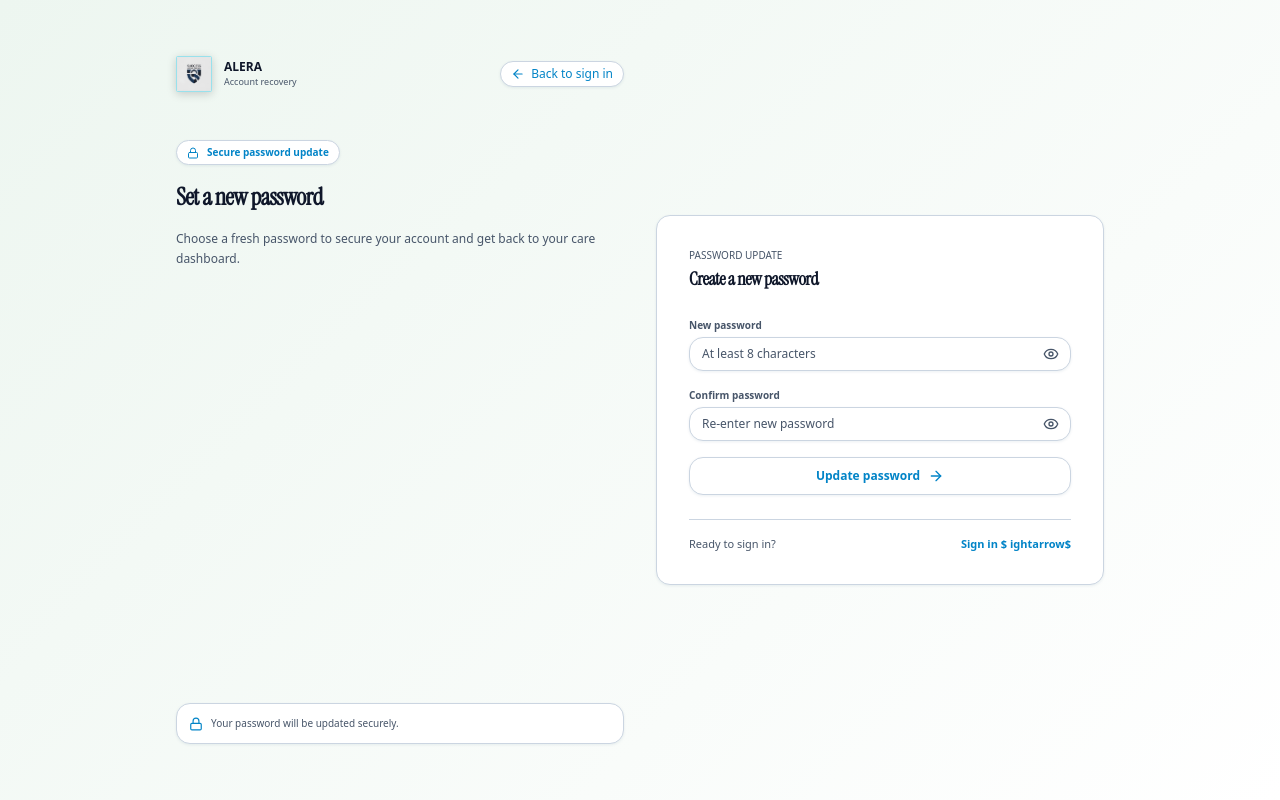
Test: Recovery flows › submits a reset-password token exchange
The width and height of the screenshot is (1280, 800).
Type "newpassword123" into the password field with placeholder "At least 8 characters" at x=880, y=354, box [689,337,1071,371]
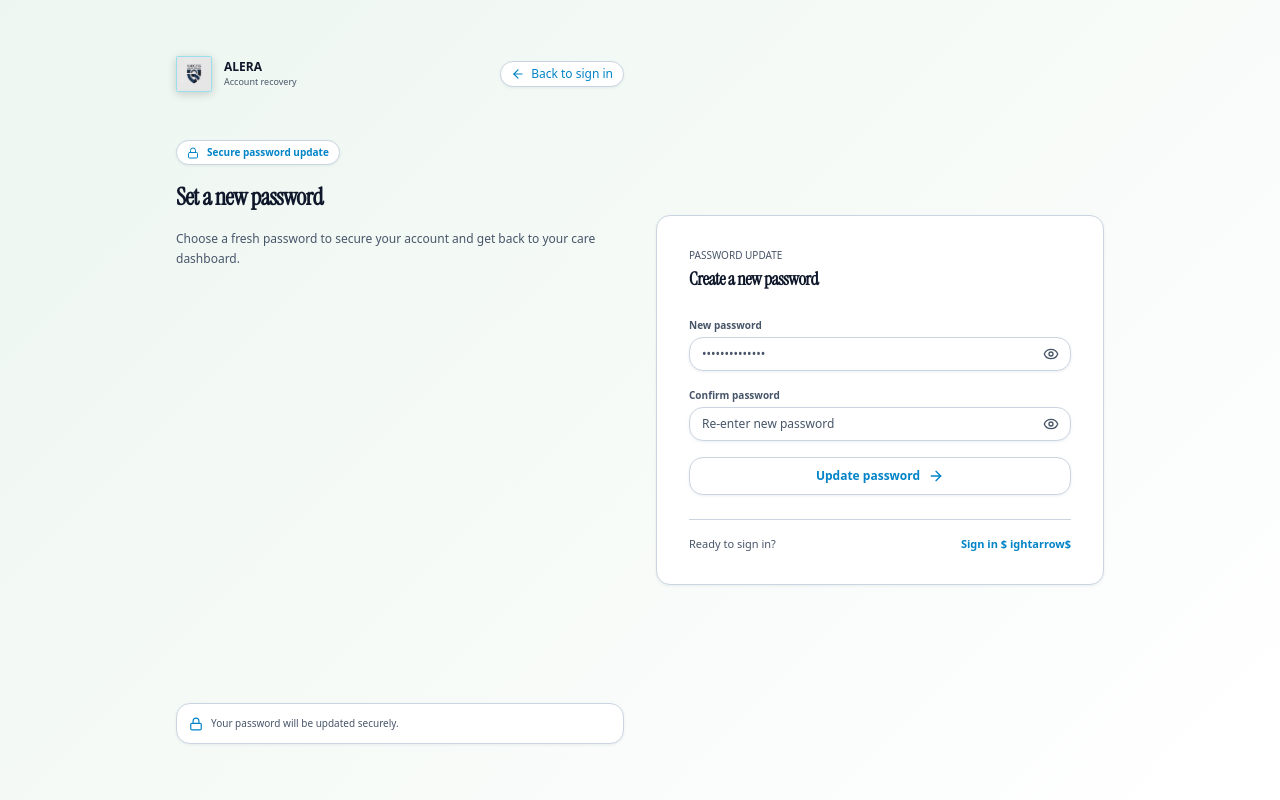
Type "newpassword123" into the password field with placeholder "Re-enter new password" at x=880, y=424, box [689,407,1071,441]
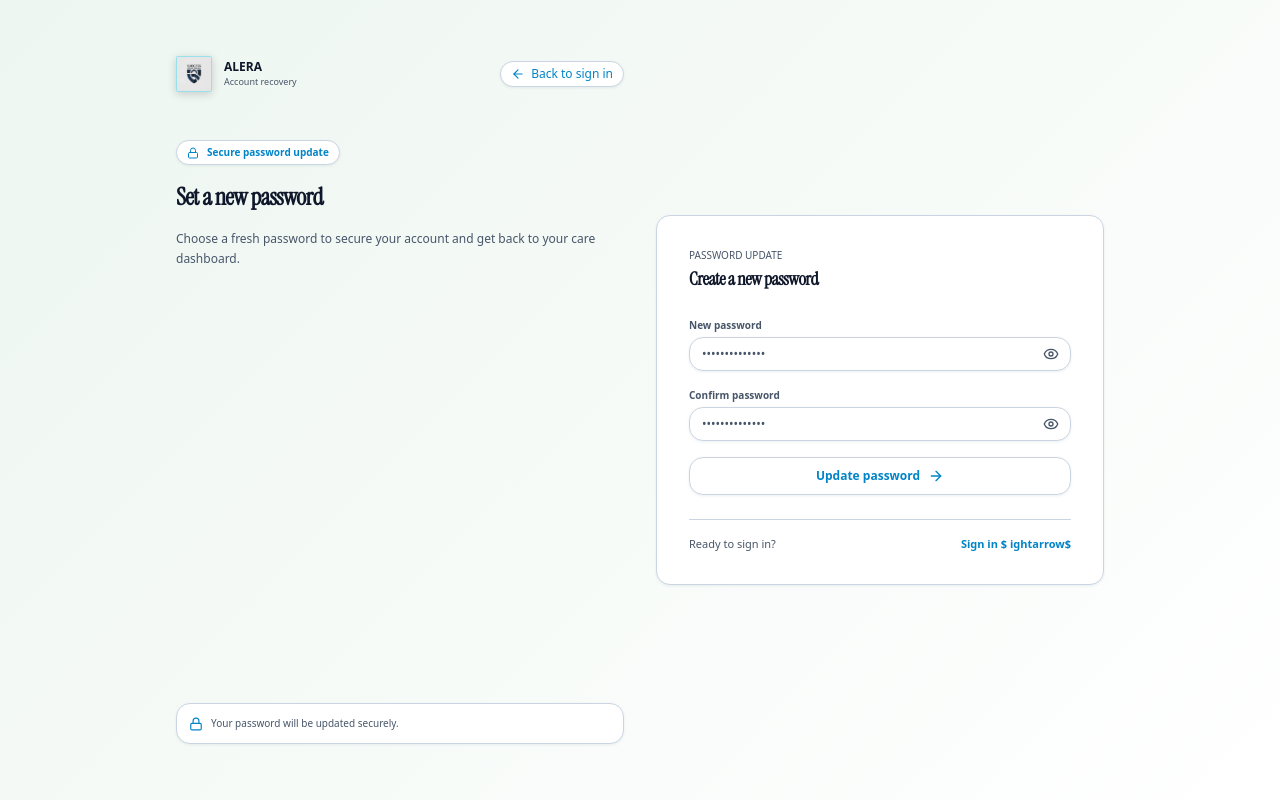
Click the button "Update password" at x=880, y=476, box [689,457,1071,495]
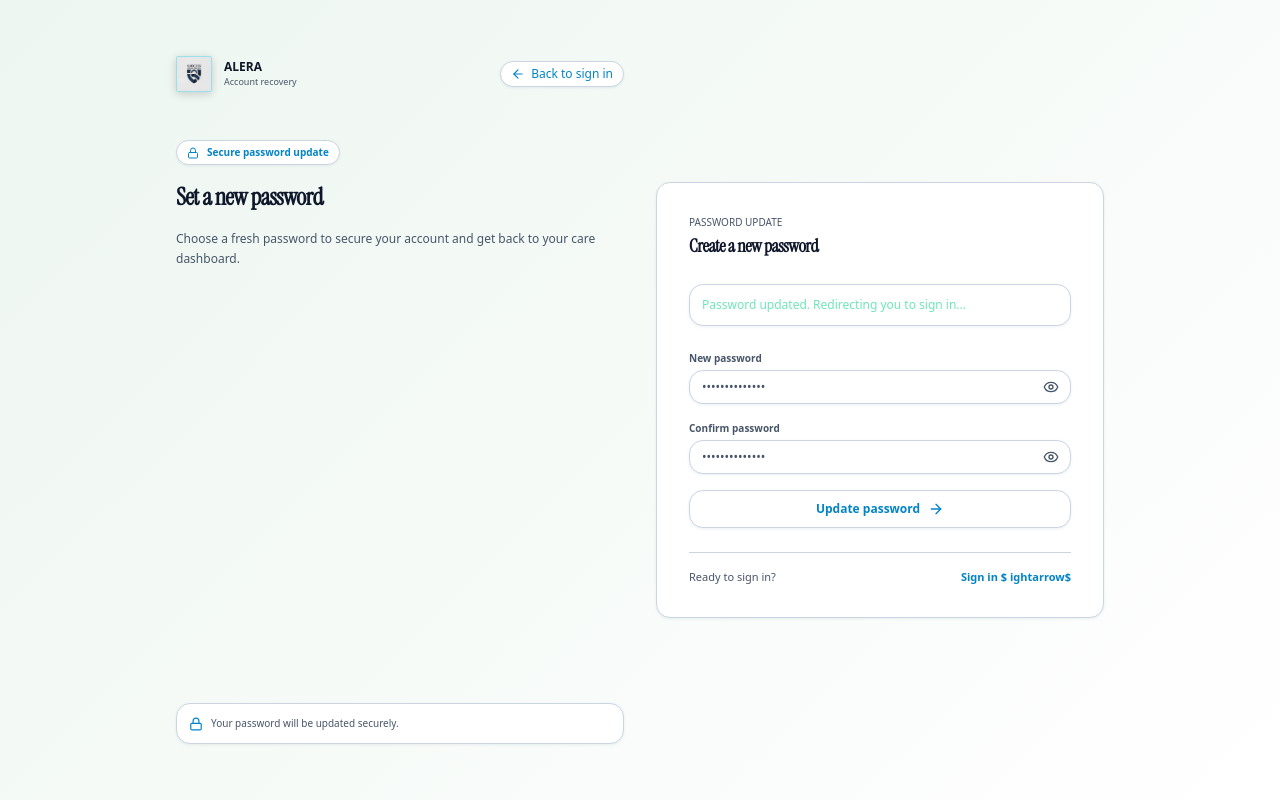
Expected: the text "Password updated. Redirecting you to sign in..." is shown, [689,284,1071,326]
